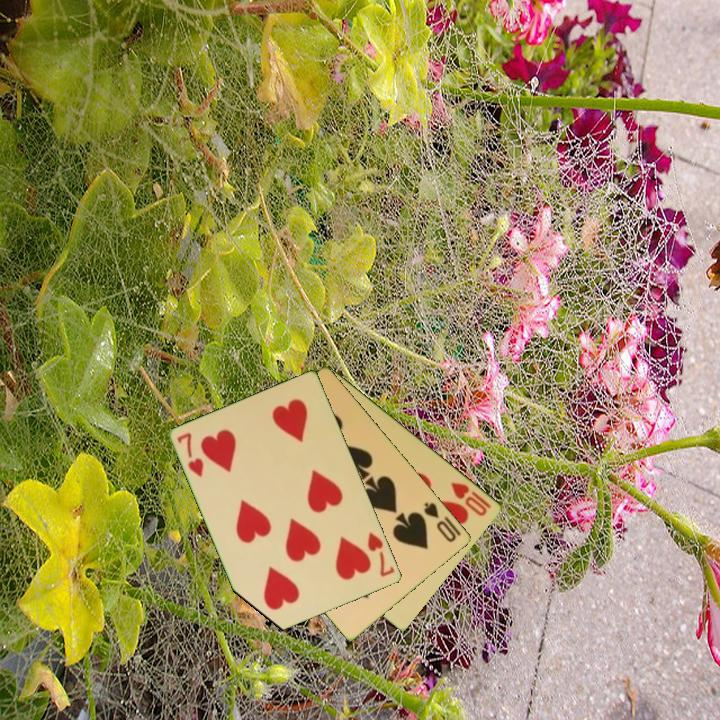10h: (447, 478, 490, 519)
10s: (421, 498, 464, 545)
7h: (364, 529, 398, 580), (174, 429, 207, 480)
